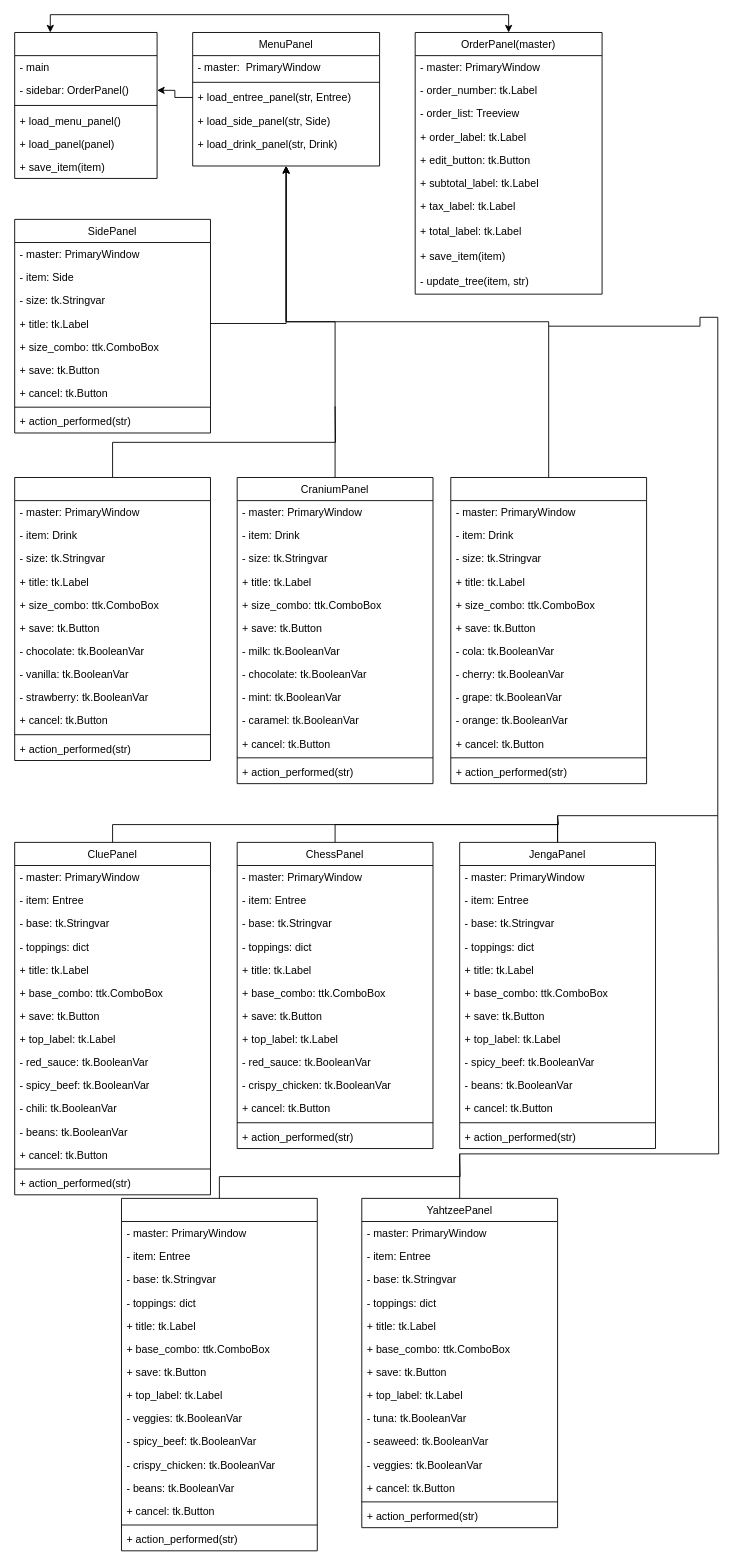
Image size: 733x1566. Some labels were removed from this diagram. The shapes that lost their labels are listed below. From the top down, each one's box as (x1, y1, x2, y2) in pixels, then its label:
(14, 32, 157, 178): PrimaryWindow
(14, 477, 210, 761): CandyPanel
(450, 477, 647, 784): SorryPanel
(121, 1197, 317, 1551): MonopolyPanel
